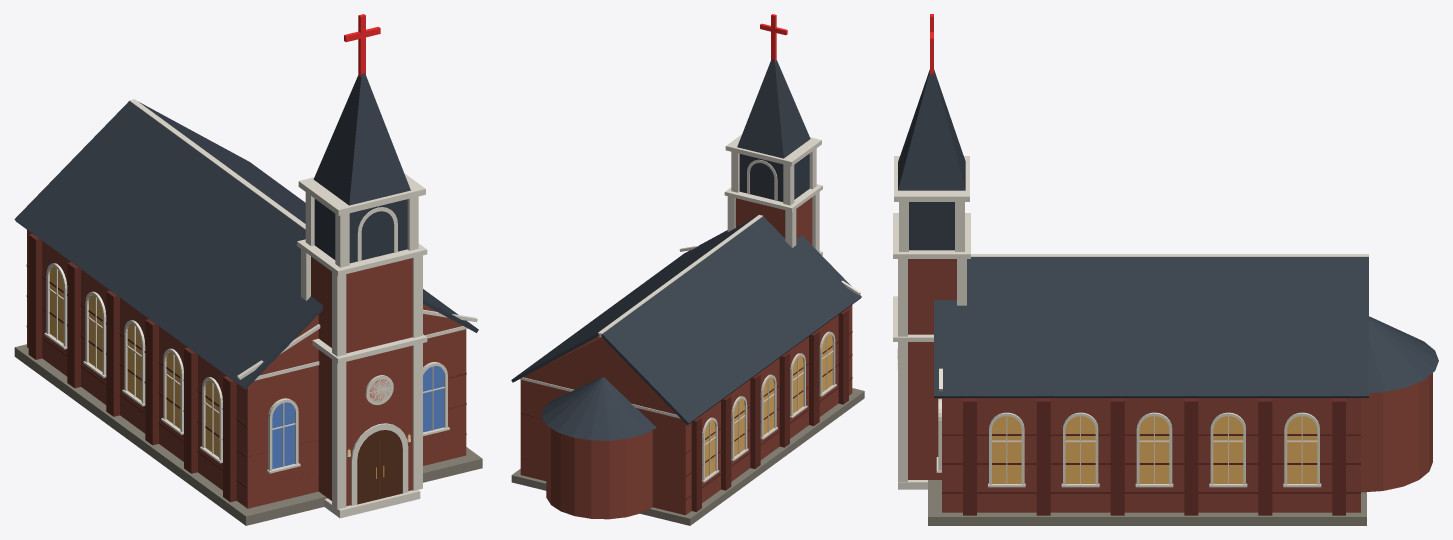
Rendered from town-church.glb.
3 views of the same model, side by side, from view 1: azimuth 30°, elevation 25°; view 2: azimuth 150°, elevation 25°; view 3: azimuth 270°, elevation 25° (orthographic). The views are drawn at different scales.
Parts seen in each view (by area): view 1: slate6, brick1, brick34, slate68, stone0, slate59, white35, slate7, door43, white36, brickDark9_mx_6, brickDark9_mx_3 (+26 smaller); view 2: slate6, brick1, brick72, slate73, slate68, slate7, stone0, slate59, brick34, brickDark9_mx_5, brickDark9_mx_2, brickDark9_mx_4 (+17 smaller); view 3: slate7, brick1, brick72, brick34, stone0, slate68, slate73, slate59, white36, glowGlass11_5, glowGlass11_1, glowGlass11_3 (+15 smaller).
Part boxes in pixels (x1=…): slate6: x1=14, y1=101, x2=322, y2=389; brick1: x1=27, y1=230, x2=466, y2=508; brick34: x1=311, y1=256, x2=412, y2=506; slate68: x1=313, y1=73, x2=410, y2=205; stone0: x1=14, y1=344, x2=482, y2=525; slate59: x1=314, y1=199, x2=407, y2=263; white35: x1=332, y1=272, x2=346, y2=509; slate7: x1=138, y1=101, x2=478, y2=332; door43: x1=357, y1=430, x2=402, y2=504; white36: x1=412, y1=255, x2=422, y2=490; brickDark9_mx_6: x1=28, y1=233, x2=42, y2=359; brickDark9_mx_3: x1=145, y1=319, x2=158, y2=445; slate6: x1=601, y1=216, x2=861, y2=425; brick1: x1=520, y1=305, x2=852, y2=515; brick72: x1=546, y1=425, x2=652, y2=519; slate73: x1=541, y1=377, x2=656, y2=440; slate68: x1=737, y1=58, x2=810, y2=158; slate7: x1=511, y1=217, x2=755, y2=382; stone0: x1=511, y1=388, x2=864, y2=525; slate59: x1=739, y1=153, x2=809, y2=201; brick34: x1=735, y1=197, x2=812, y2=245; brickDark9_mx_5: x1=721, y1=395, x2=731, y2=490; brickDark9_mx_2: x1=809, y1=331, x2=819, y2=425; brickDark9_mx_4: x1=750, y1=374, x2=760, y2=468; slate7: x1=934, y1=257, x2=1368, y2=397; brick1: x1=942, y1=398, x2=1360, y2=512; brick72: x1=1361, y1=373, x2=1432, y2=492; brick34: x1=908, y1=259, x2=956, y2=479; stone0: x1=928, y1=480, x2=1366, y2=525; slate68: x1=898, y1=69, x2=965, y2=190; slate73: x1=1369, y1=316, x2=1438, y2=392; slate59: x1=909, y1=202, x2=954, y2=250; white36: x1=898, y1=259, x2=907, y2=481; glowGlass11_5: x1=1287, y1=416, x2=1317, y2=483; glowGlass11_1: x1=992, y1=416, x2=1021, y2=483; glowGlass11_3: x1=1139, y1=416, x2=1169, y2=483.
Bounding box in the file's own units: 13.1 × 25.2 × 27.35.
